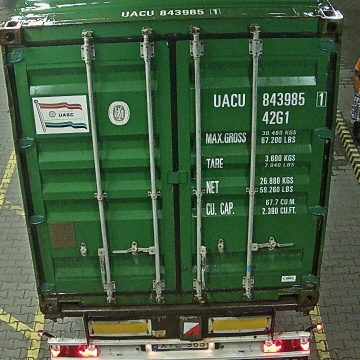serial_id: (214, 91, 326, 106)
